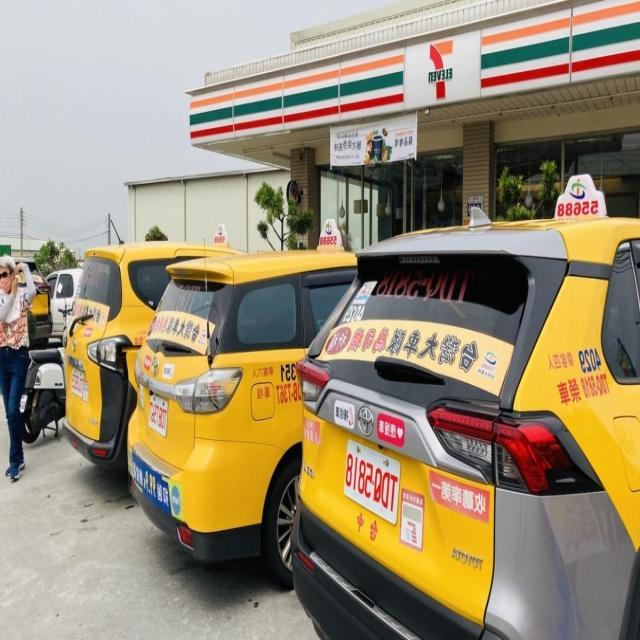taxi: (312, 245, 640, 634), (160, 262, 318, 540), (71, 228, 136, 460)
